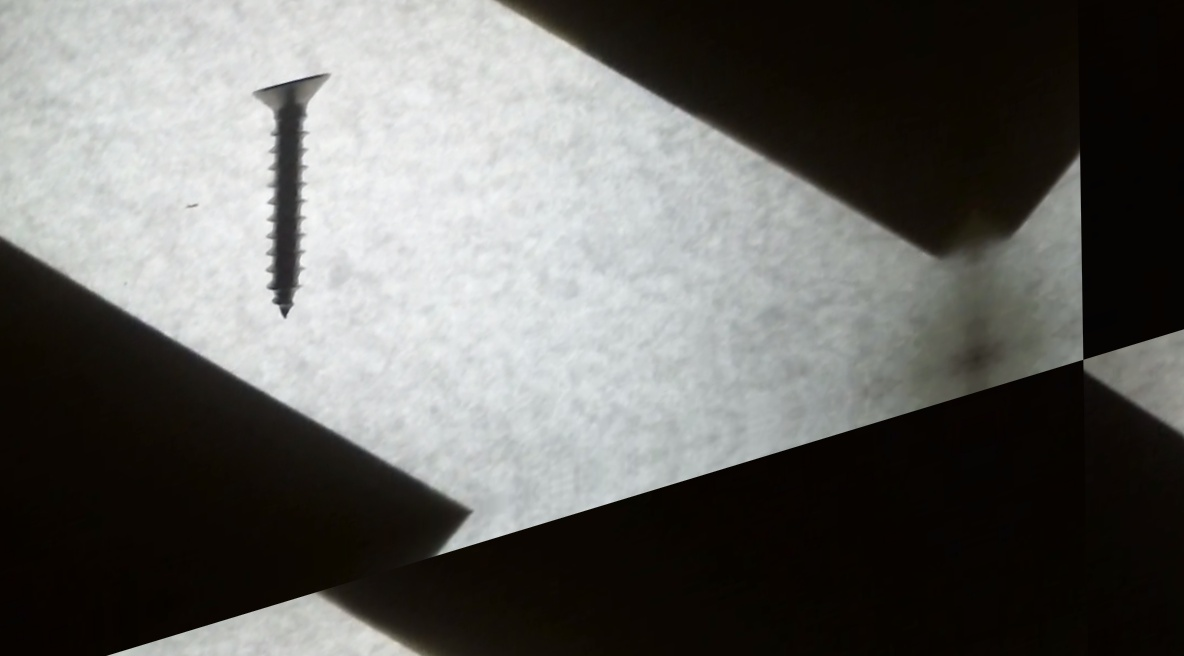S001: (232, 49, 343, 330)
